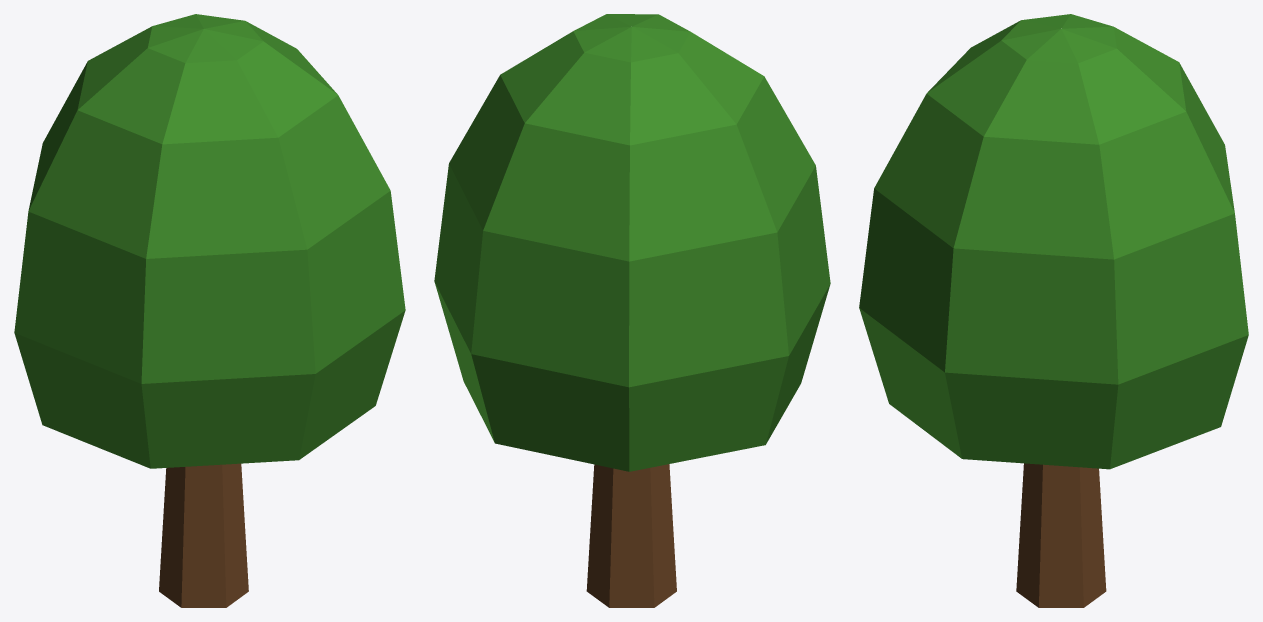
File: tree_1.glb
3 renders of one model, left to right at view 1: azimuth 30°, elevation 25°; view 2: azimuth 150°, elevation 25°; view 3: azimuth 270°, elevation 25°, orthographic.
Visible parts, largest first — view 1: Tree; view 2: Tree; view 3: Tree.
Boxes of the visible parts, bbox=[...] form: Tree: bbox=[14, 14, 405, 607]; Tree: bbox=[434, 14, 830, 607]; Tree: bbox=[859, 14, 1248, 607].
Size of the model in its own units: 2.1 by 3.31 by 2.08.
